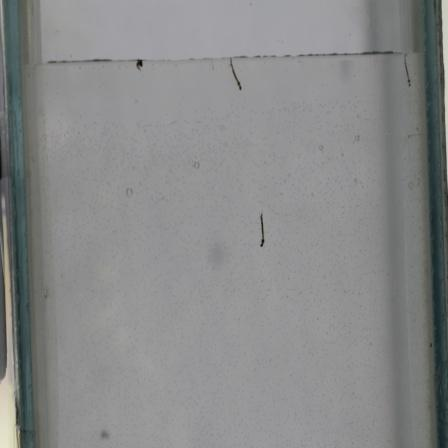Jentik-Nyamuk: (223, 54, 246, 96), (398, 52, 419, 91), (255, 207, 269, 252), (132, 57, 144, 77)
